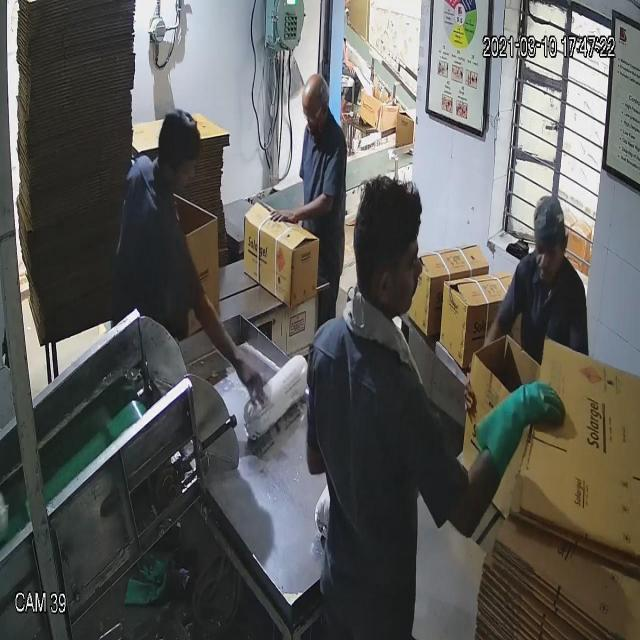No_Gloves: (84, 61, 519, 430)
